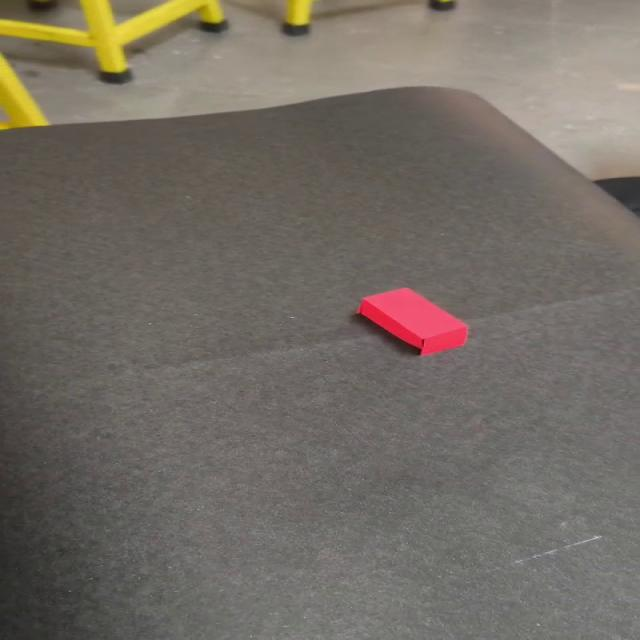red block: (355, 286, 469, 355)
